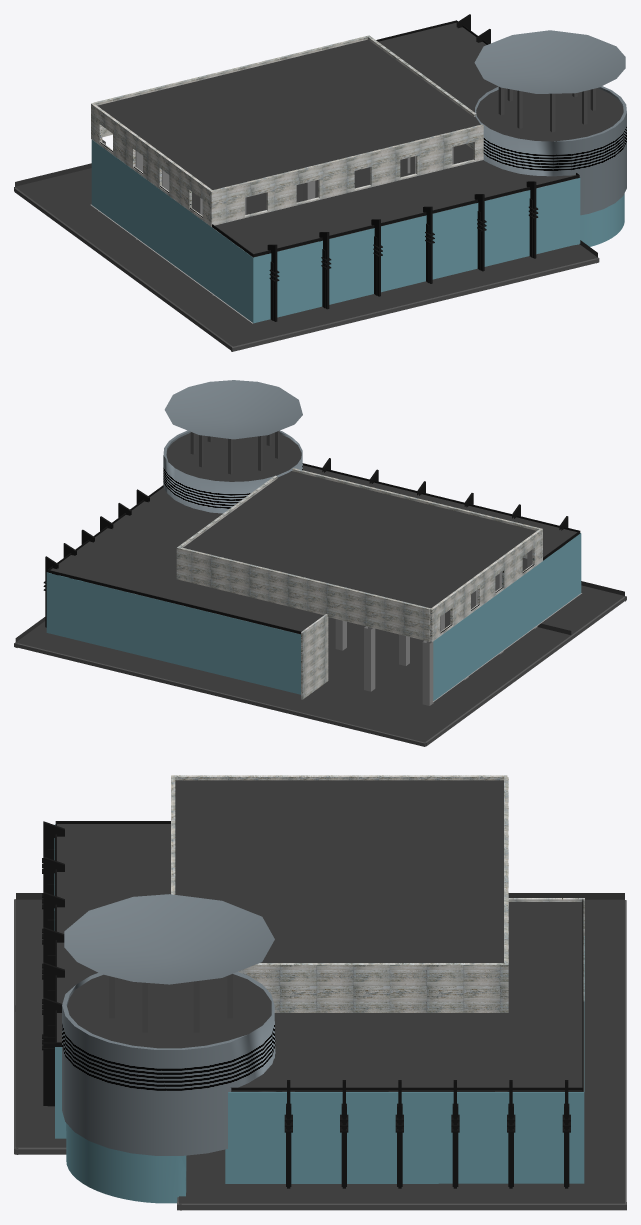
The model's file is office2_top_LOD2.FBX.
3 renders of one model, top to bottom at view 1: azimuth 30°, elevation 25°; view 2: azimuth 150°, elevation 25°; view 3: azimuth 270°, elevation 25°, orthographic. The views are drawn at different scales.
Visible parts, largest first — view 1: top002, glass004, structure004, walls005, columns005; view 2: top002, glass004, structure004, walls005, columns005; view 3: top002, structure004, glass004, walls005.
Boxes of the visible parts, x1=… form: top002: x1=15, y1=22, x2=623, y2=346; glass004: x1=91, y1=140, x2=624, y2=323; structure004: x1=14, y1=14, x2=626, y2=351; walls005: x1=91, y1=35, x2=483, y2=226; columns005: x1=93, y1=139, x2=453, y2=295; top002: x1=15, y1=432, x2=624, y2=742; glass004: x1=46, y1=533, x2=581, y2=700; structure004: x1=14, y1=380, x2=626, y2=746; walls005: x1=176, y1=468, x2=542, y2=699; columns005: x1=127, y1=550, x2=537, y2=705; top002: x1=15, y1=780, x2=624, y2=1203; structure004: x1=14, y1=821, x2=626, y2=1210; glass004: x1=54, y1=824, x2=584, y2=1203; walls005: x1=171, y1=775, x2=584, y2=1012.
Size of the model in its own units: 7170 by 2409 by 6077.
